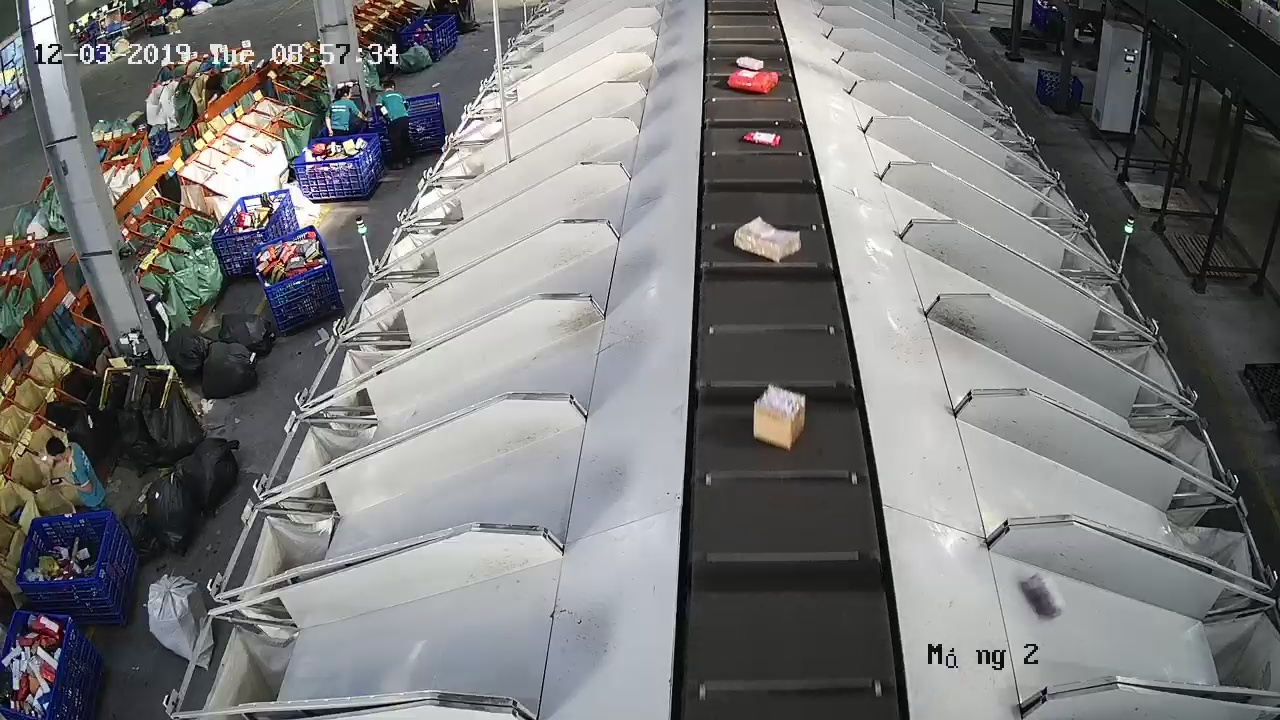parcel: (752, 382, 807, 452), (732, 216, 802, 263), (1020, 571, 1067, 619), (741, 129, 783, 147)
